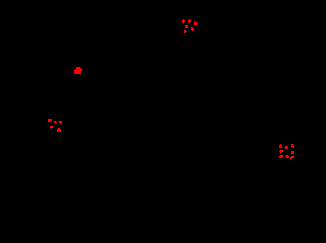Target: (74, 67, 82, 74), (57, 128, 61, 132), (182, 19, 185, 23), (188, 19, 191, 23), (194, 21, 197, 25), (191, 27, 194, 31), (48, 119, 52, 122), (279, 144, 282, 148), (291, 144, 294, 148), (284, 146, 288, 149), (279, 150, 283, 153), (279, 155, 283, 158), (285, 155, 289, 158), (290, 156, 294, 159), (185, 25, 188, 28), (184, 30, 187, 33), (59, 121, 62, 124), (50, 126, 53, 129), (291, 151, 294, 154), (54, 121, 57, 123)
